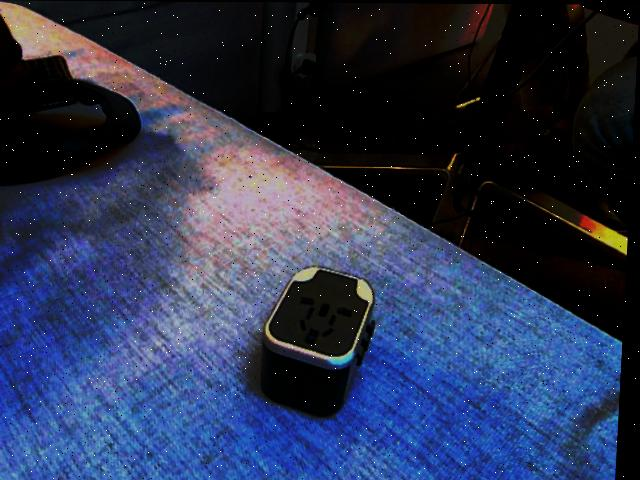adapter: (260, 265, 380, 417)
